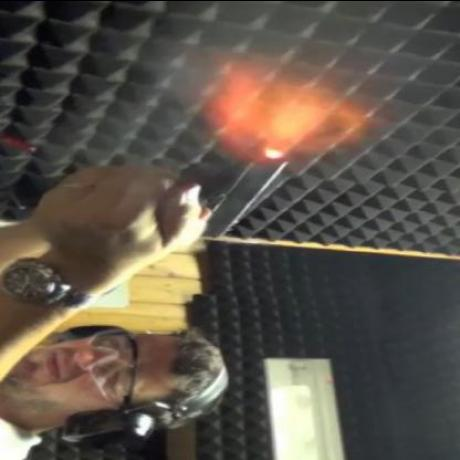1: (0, 161, 223, 458)
weapon: (144, 146, 296, 244)
